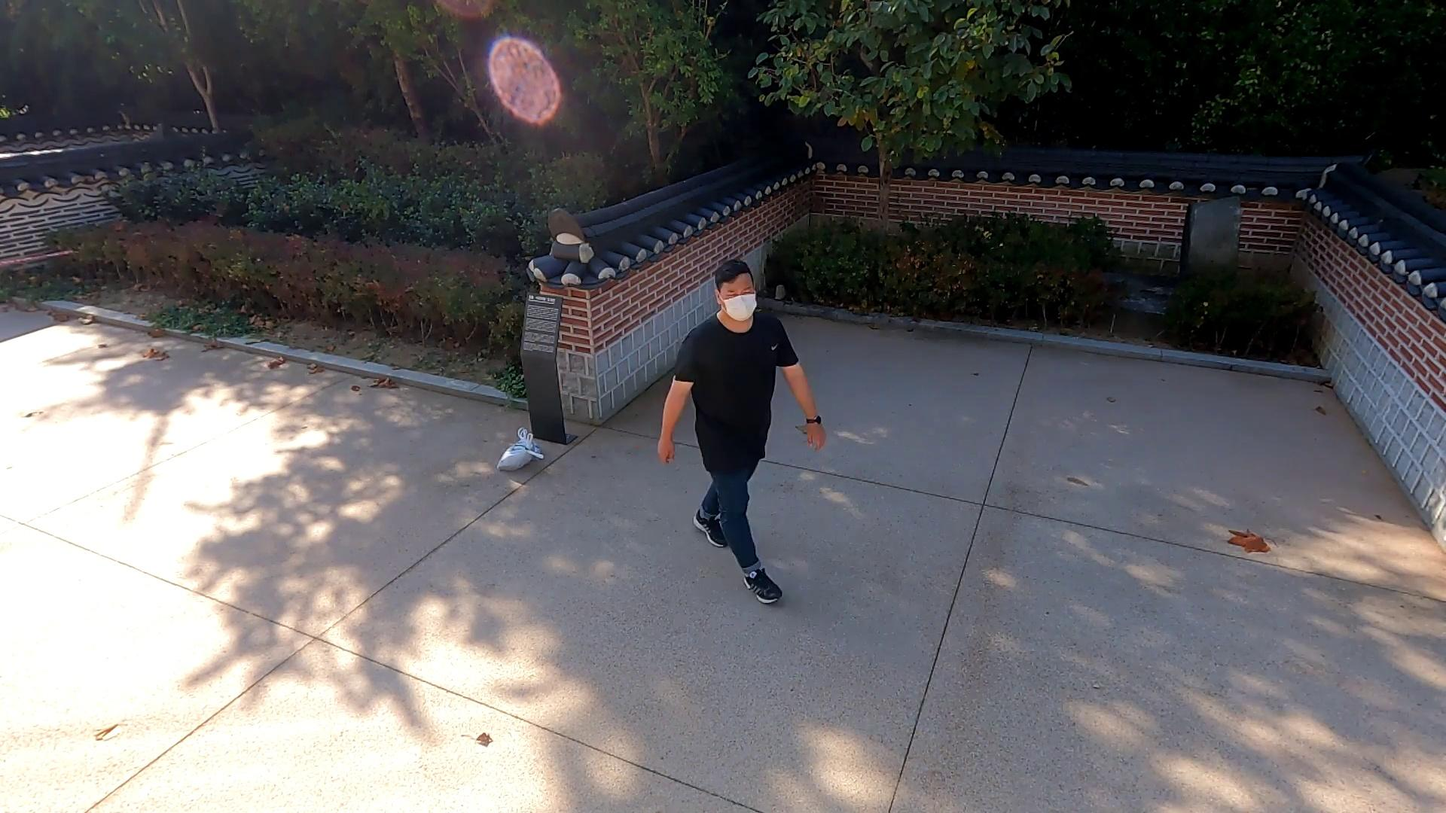person: (657, 258, 826, 613)
trash: (495, 425, 544, 474)
